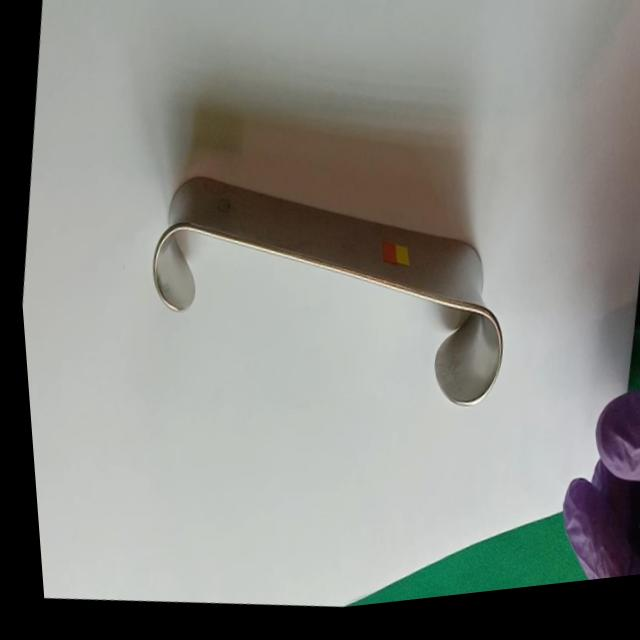CheekRetractor: (123, 145, 527, 455)
